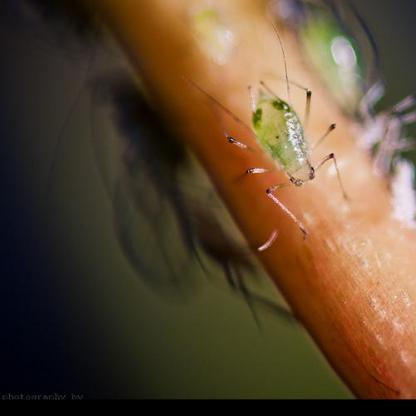aphid: (65, 73, 263, 303), (197, 50, 347, 229)
